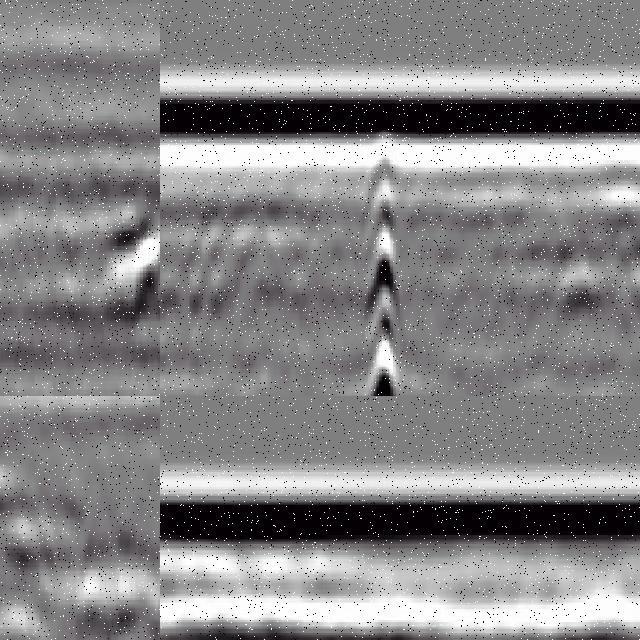crack: (365, 131, 404, 397)
loose: (1, 458, 124, 590)
